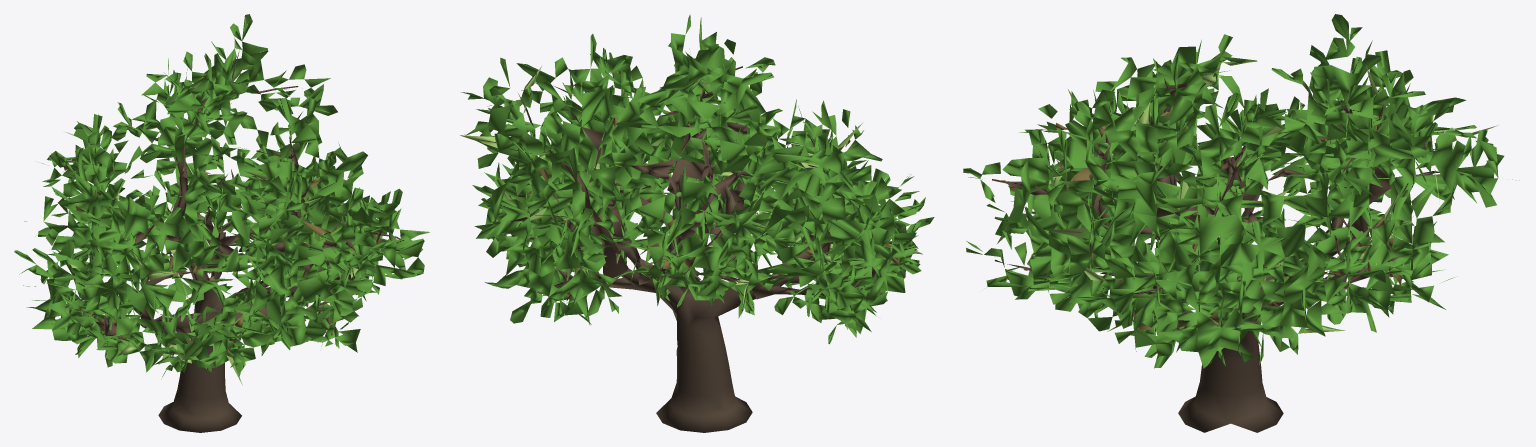
The model's file is 1_3_mid.glb.
3 views of the same model, side by side, from view 1: azimuth 30°, elevation 25°; view 2: azimuth 150°, elevation 25°; view 3: azimuth 270°, elevation 25° (orthographic). The views are drawn at different scales.
Visible parts, largest first — view 1: body; view 2: body; view 3: body.
Part boxes in pixels (left/top/right/bottom): body: left=14, top=14, right=429, bottom=432; body: left=460, top=14, right=934, bottom=432; body: left=963, top=14, right=1519, bottom=432.
Bounding box in the file's own units: 9.32 × 8.01 × 9.84.
Materials: 1 (1 with a texture image).
